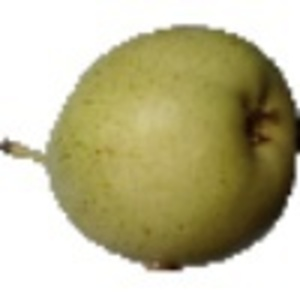pera: (1, 23, 300, 276)
